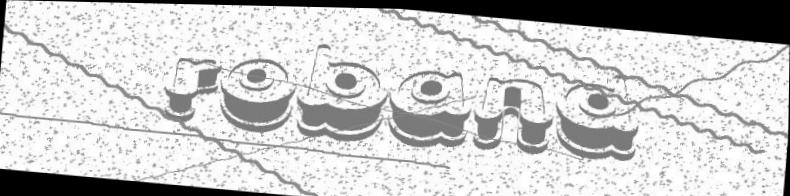a: (387, 65, 473, 147)
b: (295, 41, 391, 141)
d: (551, 67, 641, 160)
n: (472, 73, 556, 154)
o: (218, 55, 298, 132)
r: (162, 55, 221, 125)
